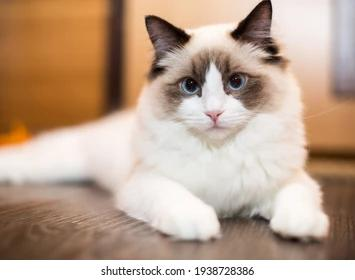ragdoll: (140, 1, 294, 156)
